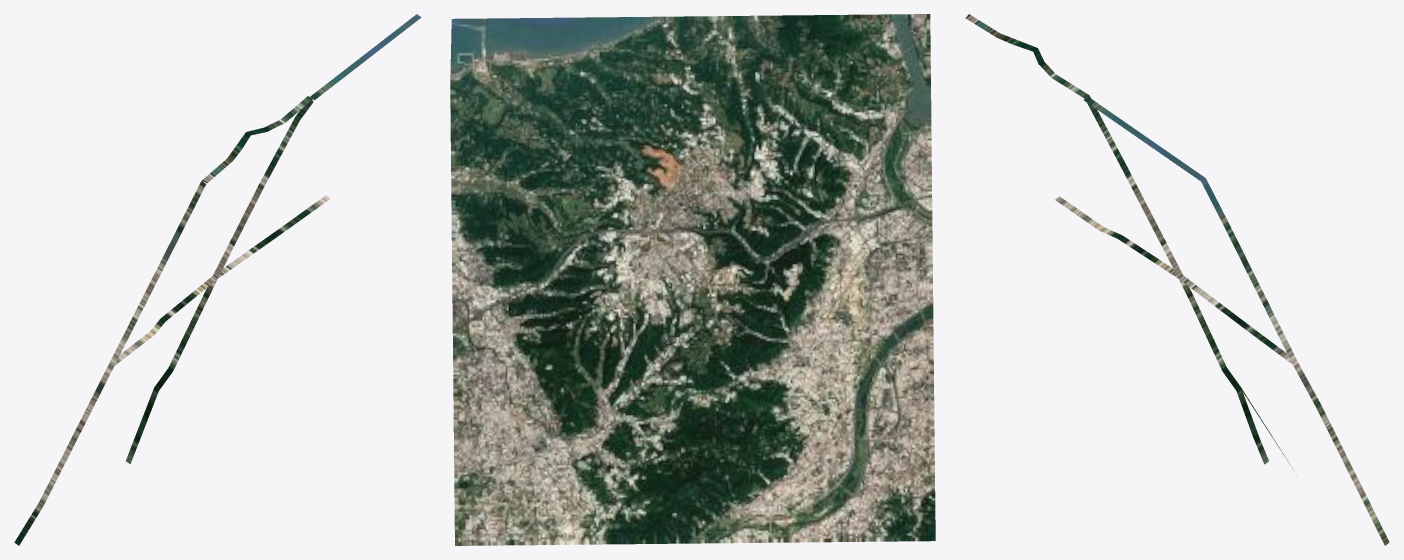
3 renders of one model, left to right at view 1: azimuth 30°, elevation 25°; view 2: azimuth 150°, elevation 25°; view 3: azimuth 270°, elevation 25°, orthographic. The views are drawn at different scales.
Size of the model in its own units: 19705 by 18063 by 16641.
Materials: 1 (1 with a texture image).
